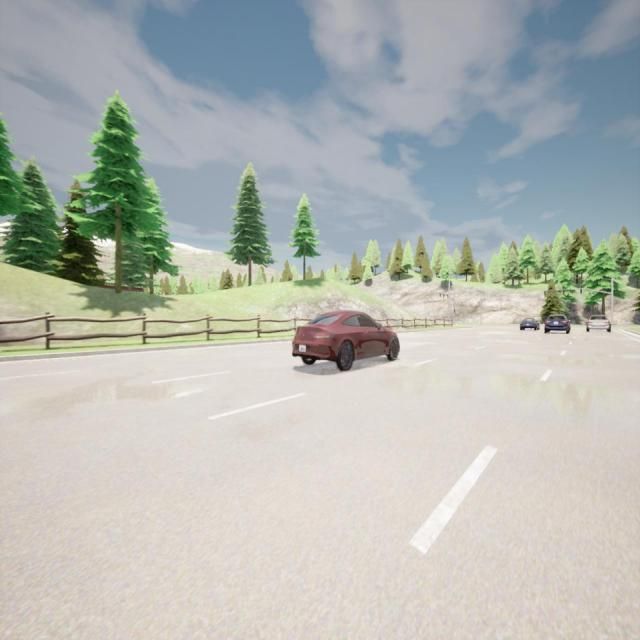Vehicle: (292, 310, 400, 370), (545, 314, 571, 333), (584, 315, 612, 332), (520, 318, 540, 330)
traffic_light: (580, 288, 582, 294), (544, 291, 546, 296), (563, 290, 564, 295), (447, 294, 448, 299), (454, 310, 455, 314), (440, 293, 440, 297), (444, 294, 444, 298)
